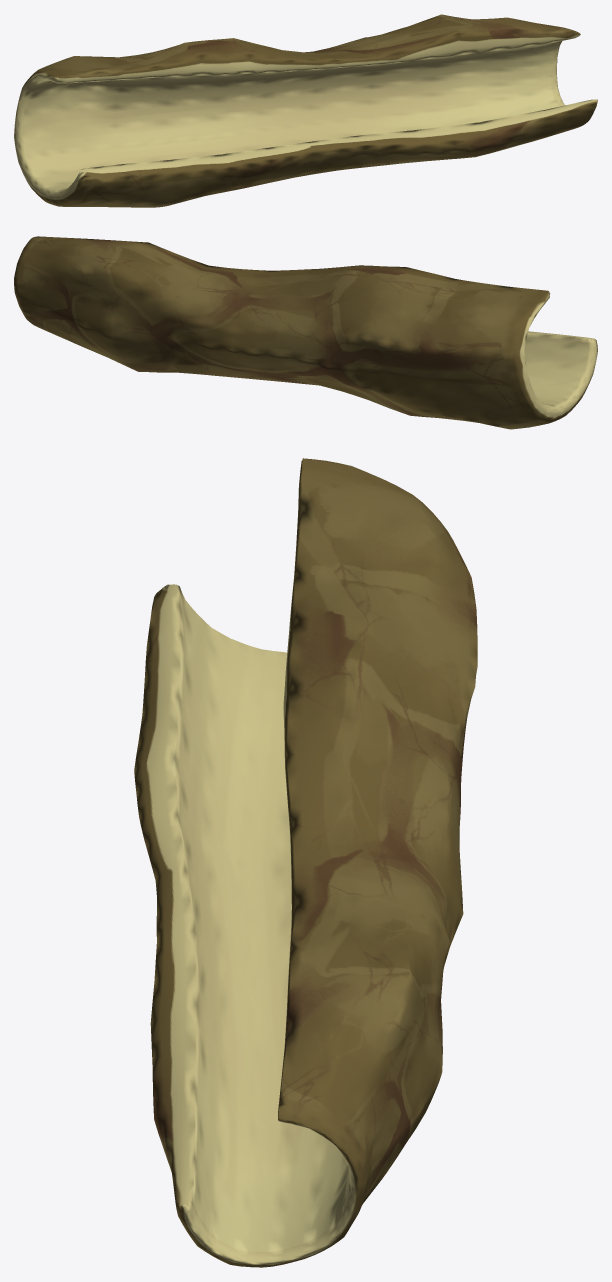
Rendered from log3_4.fbx.
The picture shows the model from 3 angles, top to bottom: view 1: azimuth 30°, elevation 25°; view 2: azimuth 150°, elevation 25°; view 3: azimuth 270°, elevation 25°; orthographic projection. The views are drawn at different scales.
Visible parts, largest first — view 1: polySurface6; view 2: polySurface6; view 3: polySurface6.
Boxes of the visible parts, bbox=[...] form: polySurface6: bbox=[14, 14, 597, 207]; polySurface6: bbox=[14, 236, 597, 429]; polySurface6: bbox=[134, 458, 477, 1267].
Bounding box in the file's own units: 829 × 244 × 230.
1 material, 1 textured.
